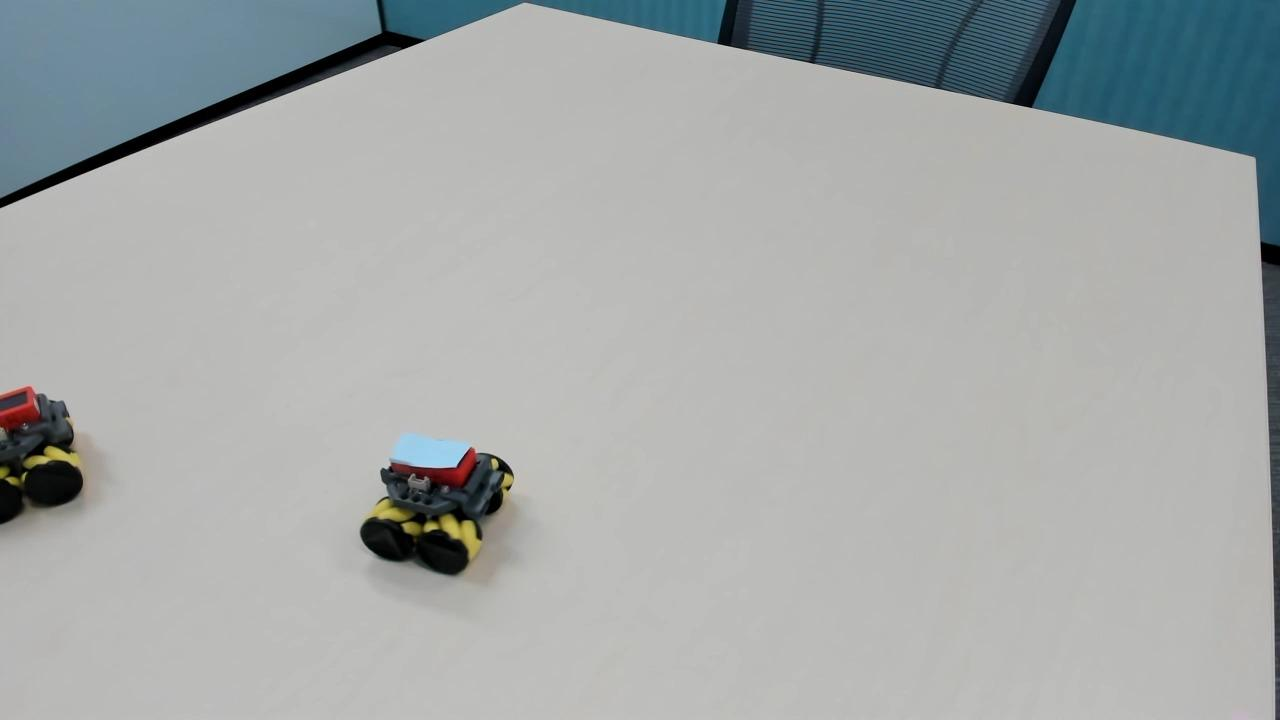B-Robot: (359, 421, 529, 584)
R-Robot: (0, 367, 86, 540)
